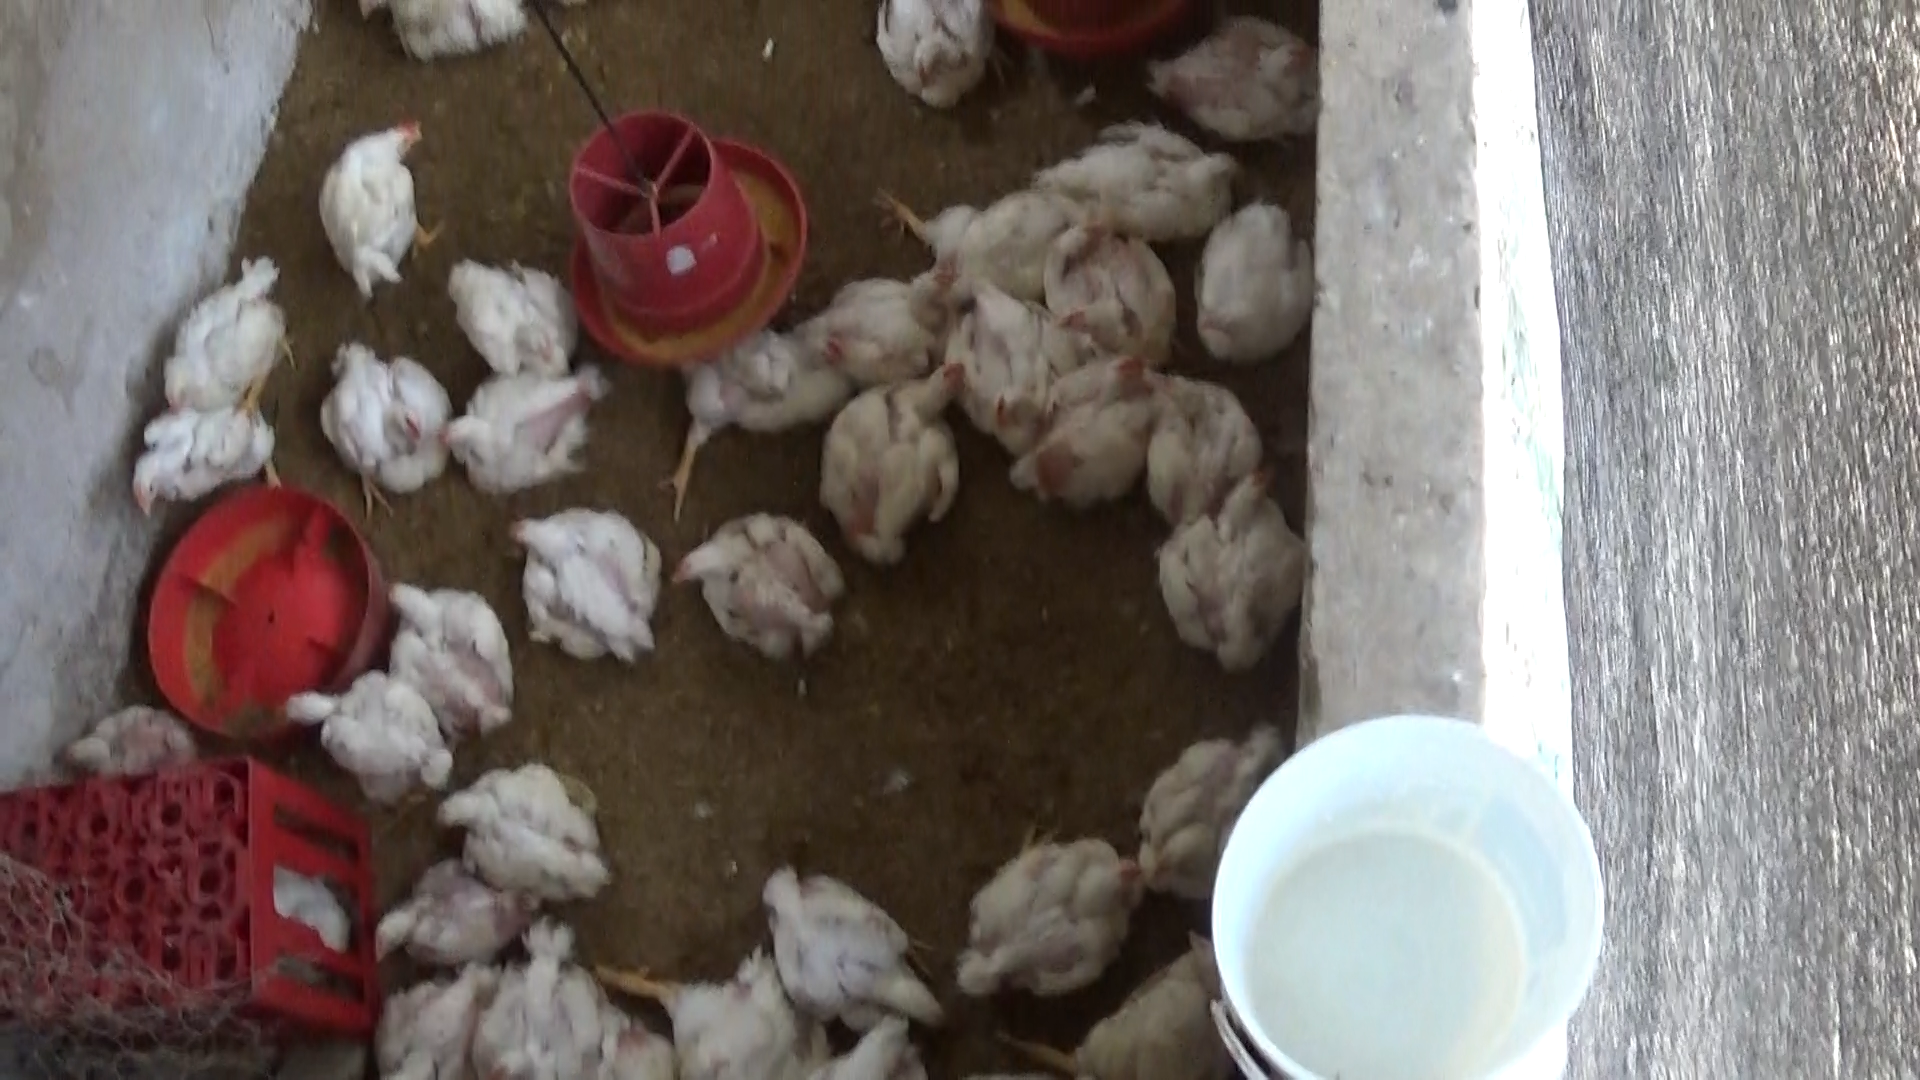Pollos: (949, 812, 1149, 1011), (748, 855, 956, 1021), (808, 357, 971, 564), (1160, 454, 1311, 667), (589, 943, 820, 1080), (674, 331, 839, 509), (417, 752, 611, 902), (152, 243, 306, 427), (1030, 115, 1237, 251), (662, 512, 852, 658), (496, 502, 653, 667), (311, 113, 446, 305), (320, 336, 455, 526), (1124, 727, 1291, 877), (272, 676, 456, 812), (1006, 352, 1174, 495), (378, 567, 517, 735), (436, 367, 611, 498), (876, 179, 1079, 291), (476, 899, 597, 1080), (1149, 13, 1317, 141), (938, 287, 1073, 442), (1151, 363, 1266, 535), (1048, 225, 1168, 390), (1189, 196, 1308, 363), (429, 253, 579, 384), (795, 266, 963, 378), (116, 397, 281, 504), (363, 957, 505, 1080), (363, 848, 517, 959), (881, 0, 1000, 113), (57, 708, 193, 775)
